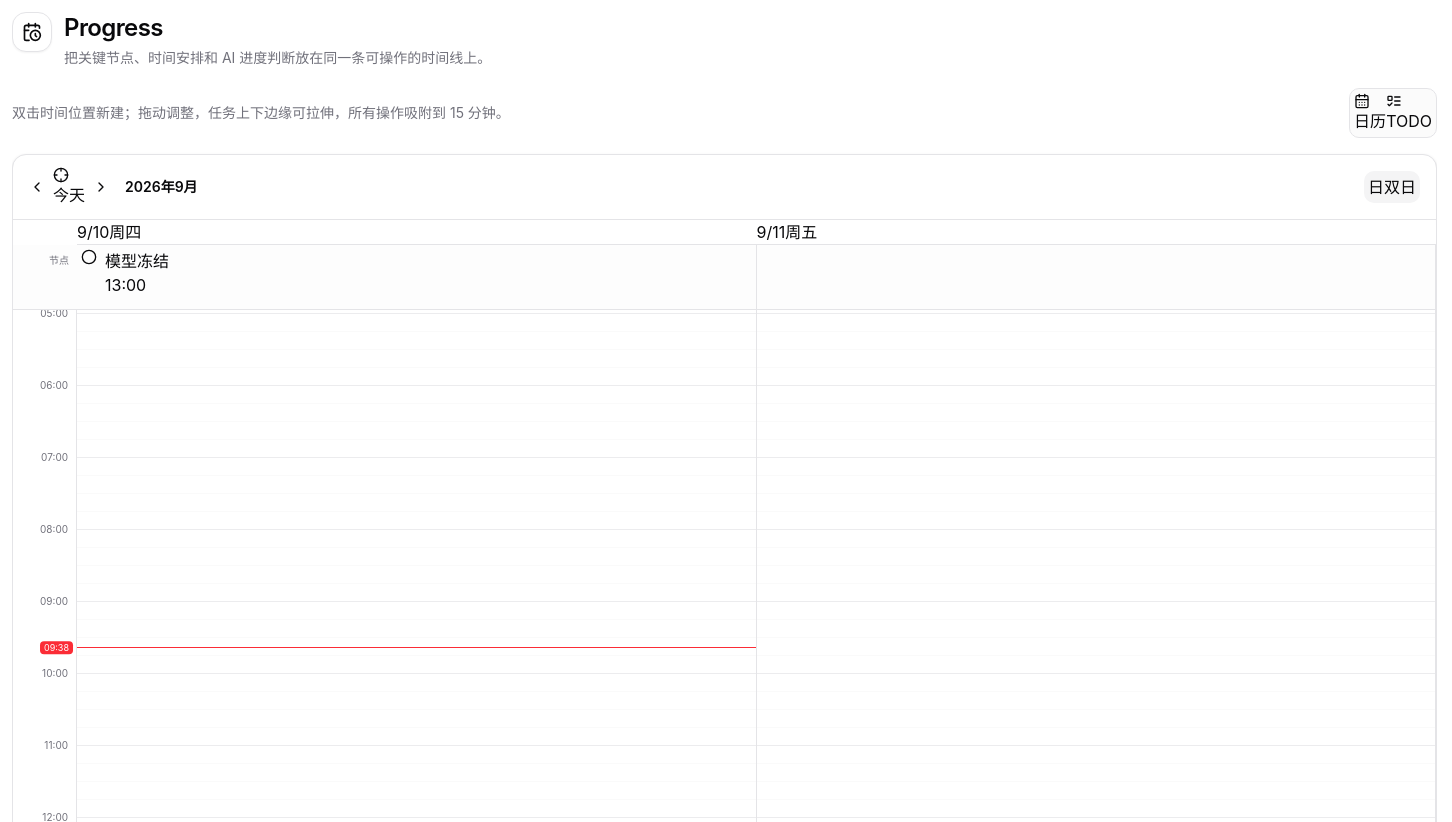
it: Progress human workbench › starts in Calendar and cycles the repeated multi-day button
(page scrolled)
Click the button with aria-label "重复点击切换双日、三日、四日": (1400, 187) left=1384, top=175, right=1416, bottom=199
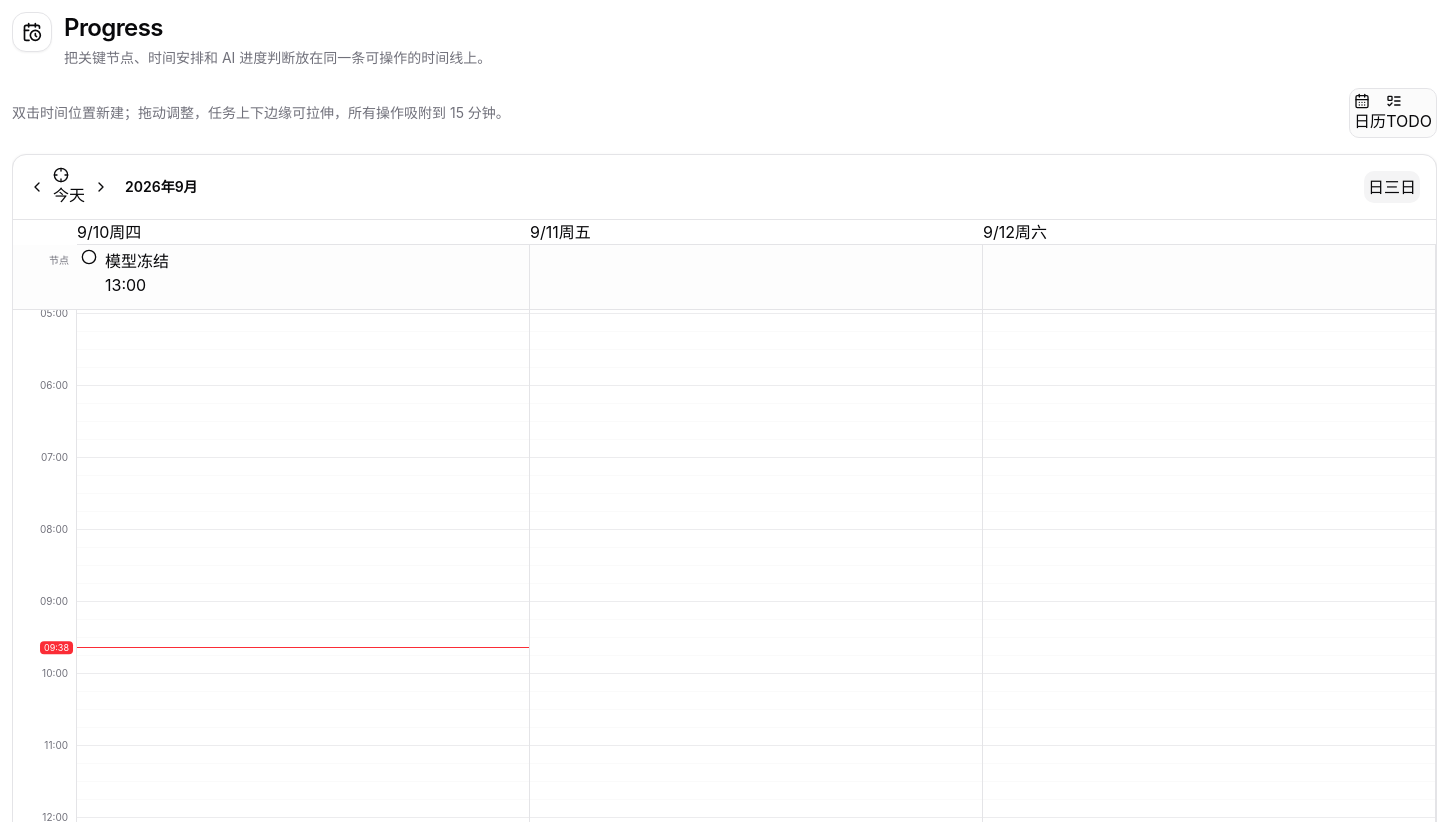
Now the button with aria-label "重复点击切换双日、三日、四日" reads "三日"
Click the button with aria-label "重复点击切换双日、三日、四日": (1400, 187) left=1384, top=175, right=1416, bottom=199
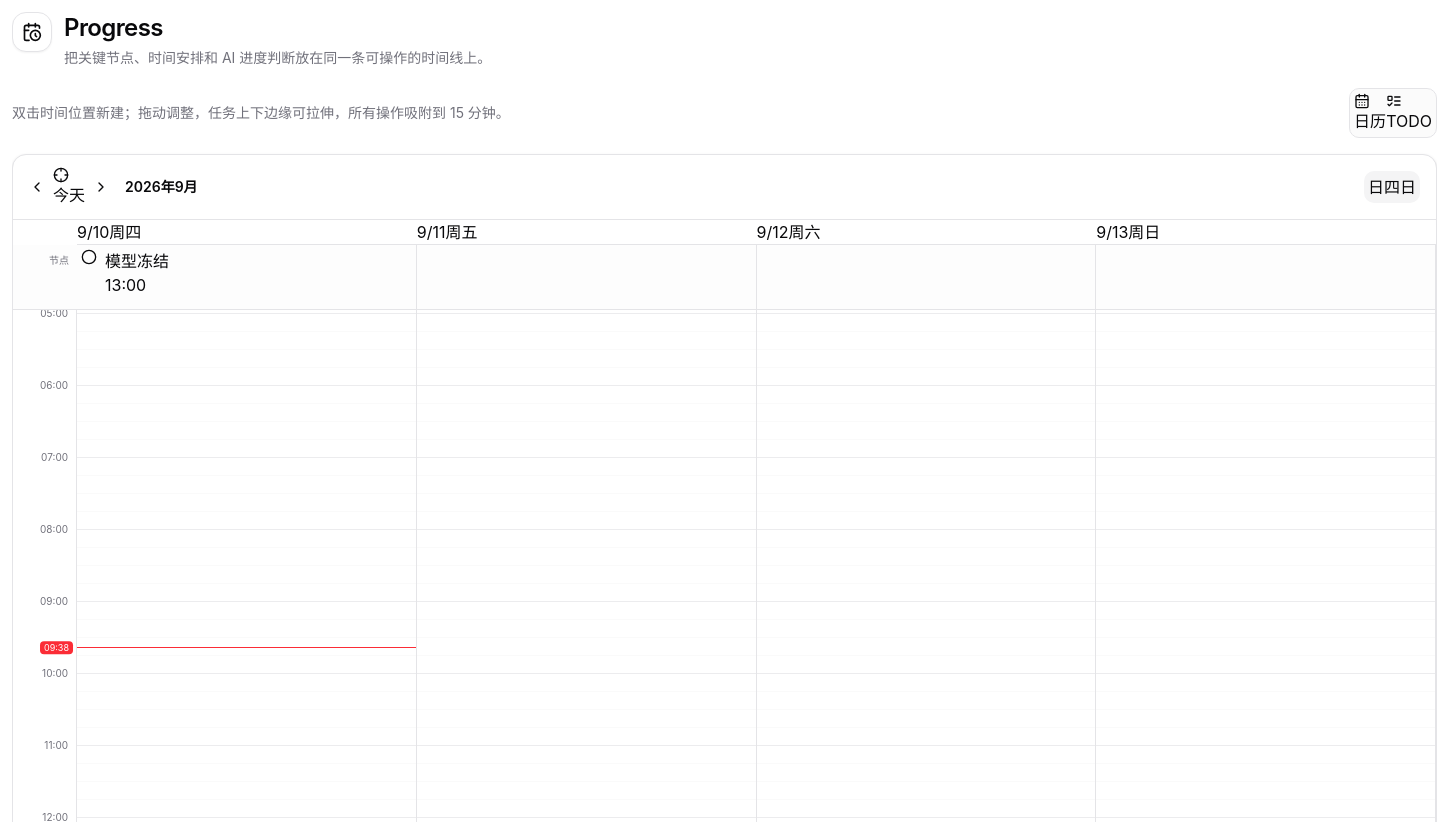
Now the button with aria-label "重复点击切换双日、三日、四日" reads "四日"
Click the button with aria-label "重复点击切换双日、三日、四日": (1400, 187) left=1384, top=175, right=1416, bottom=199
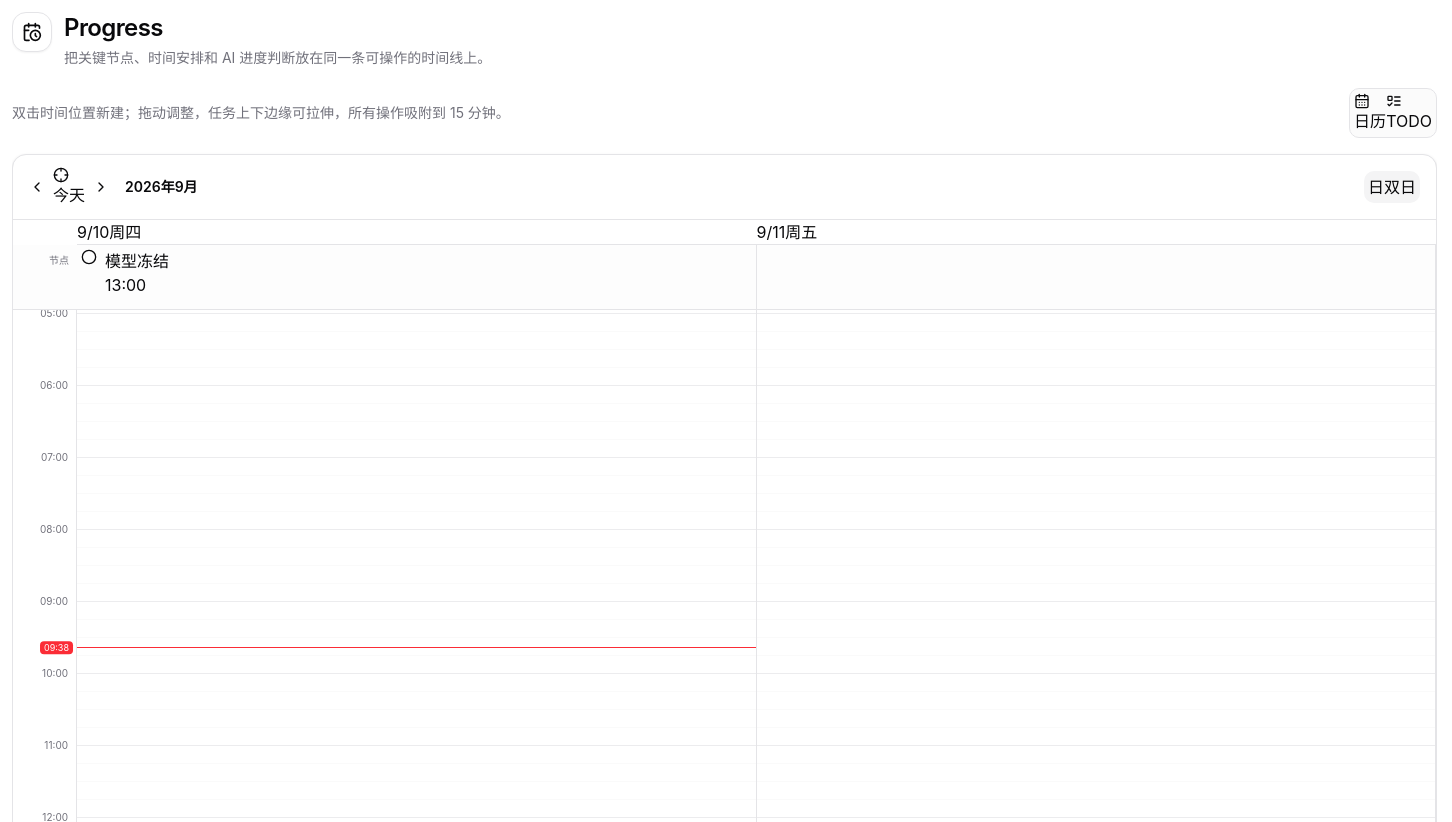
Now the button with aria-label "重复点击切换双日、三日、四日" reads "双日", box left=1384, top=175, right=1416, bottom=199
